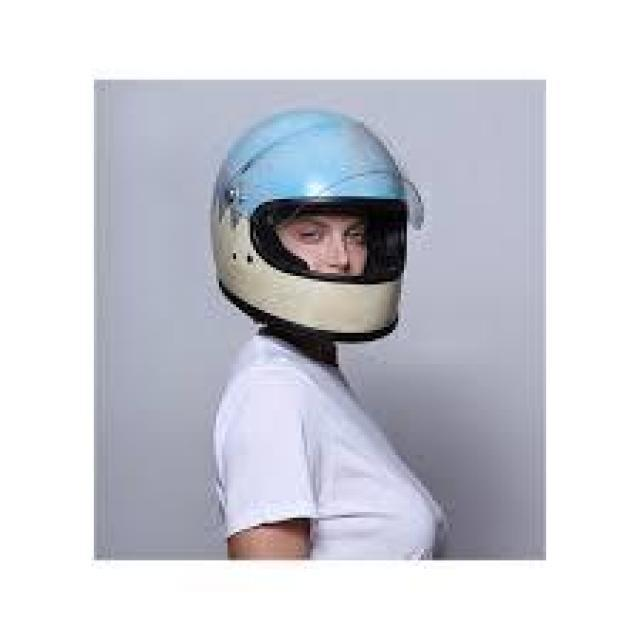Helmet: (207, 105, 426, 343)
